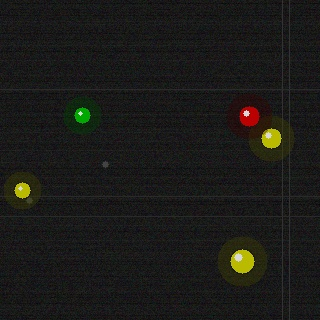green_normal: (72, 105, 92, 125)
red_fault: (237, 104, 261, 128)
yellow_warning: (228, 247, 256, 275), (259, 126, 283, 150), (12, 180, 32, 200)
